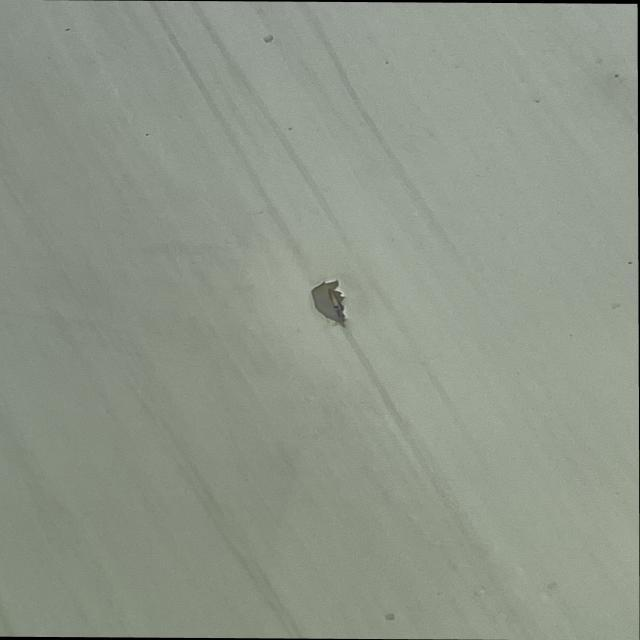crack: (320, 272, 352, 344)
